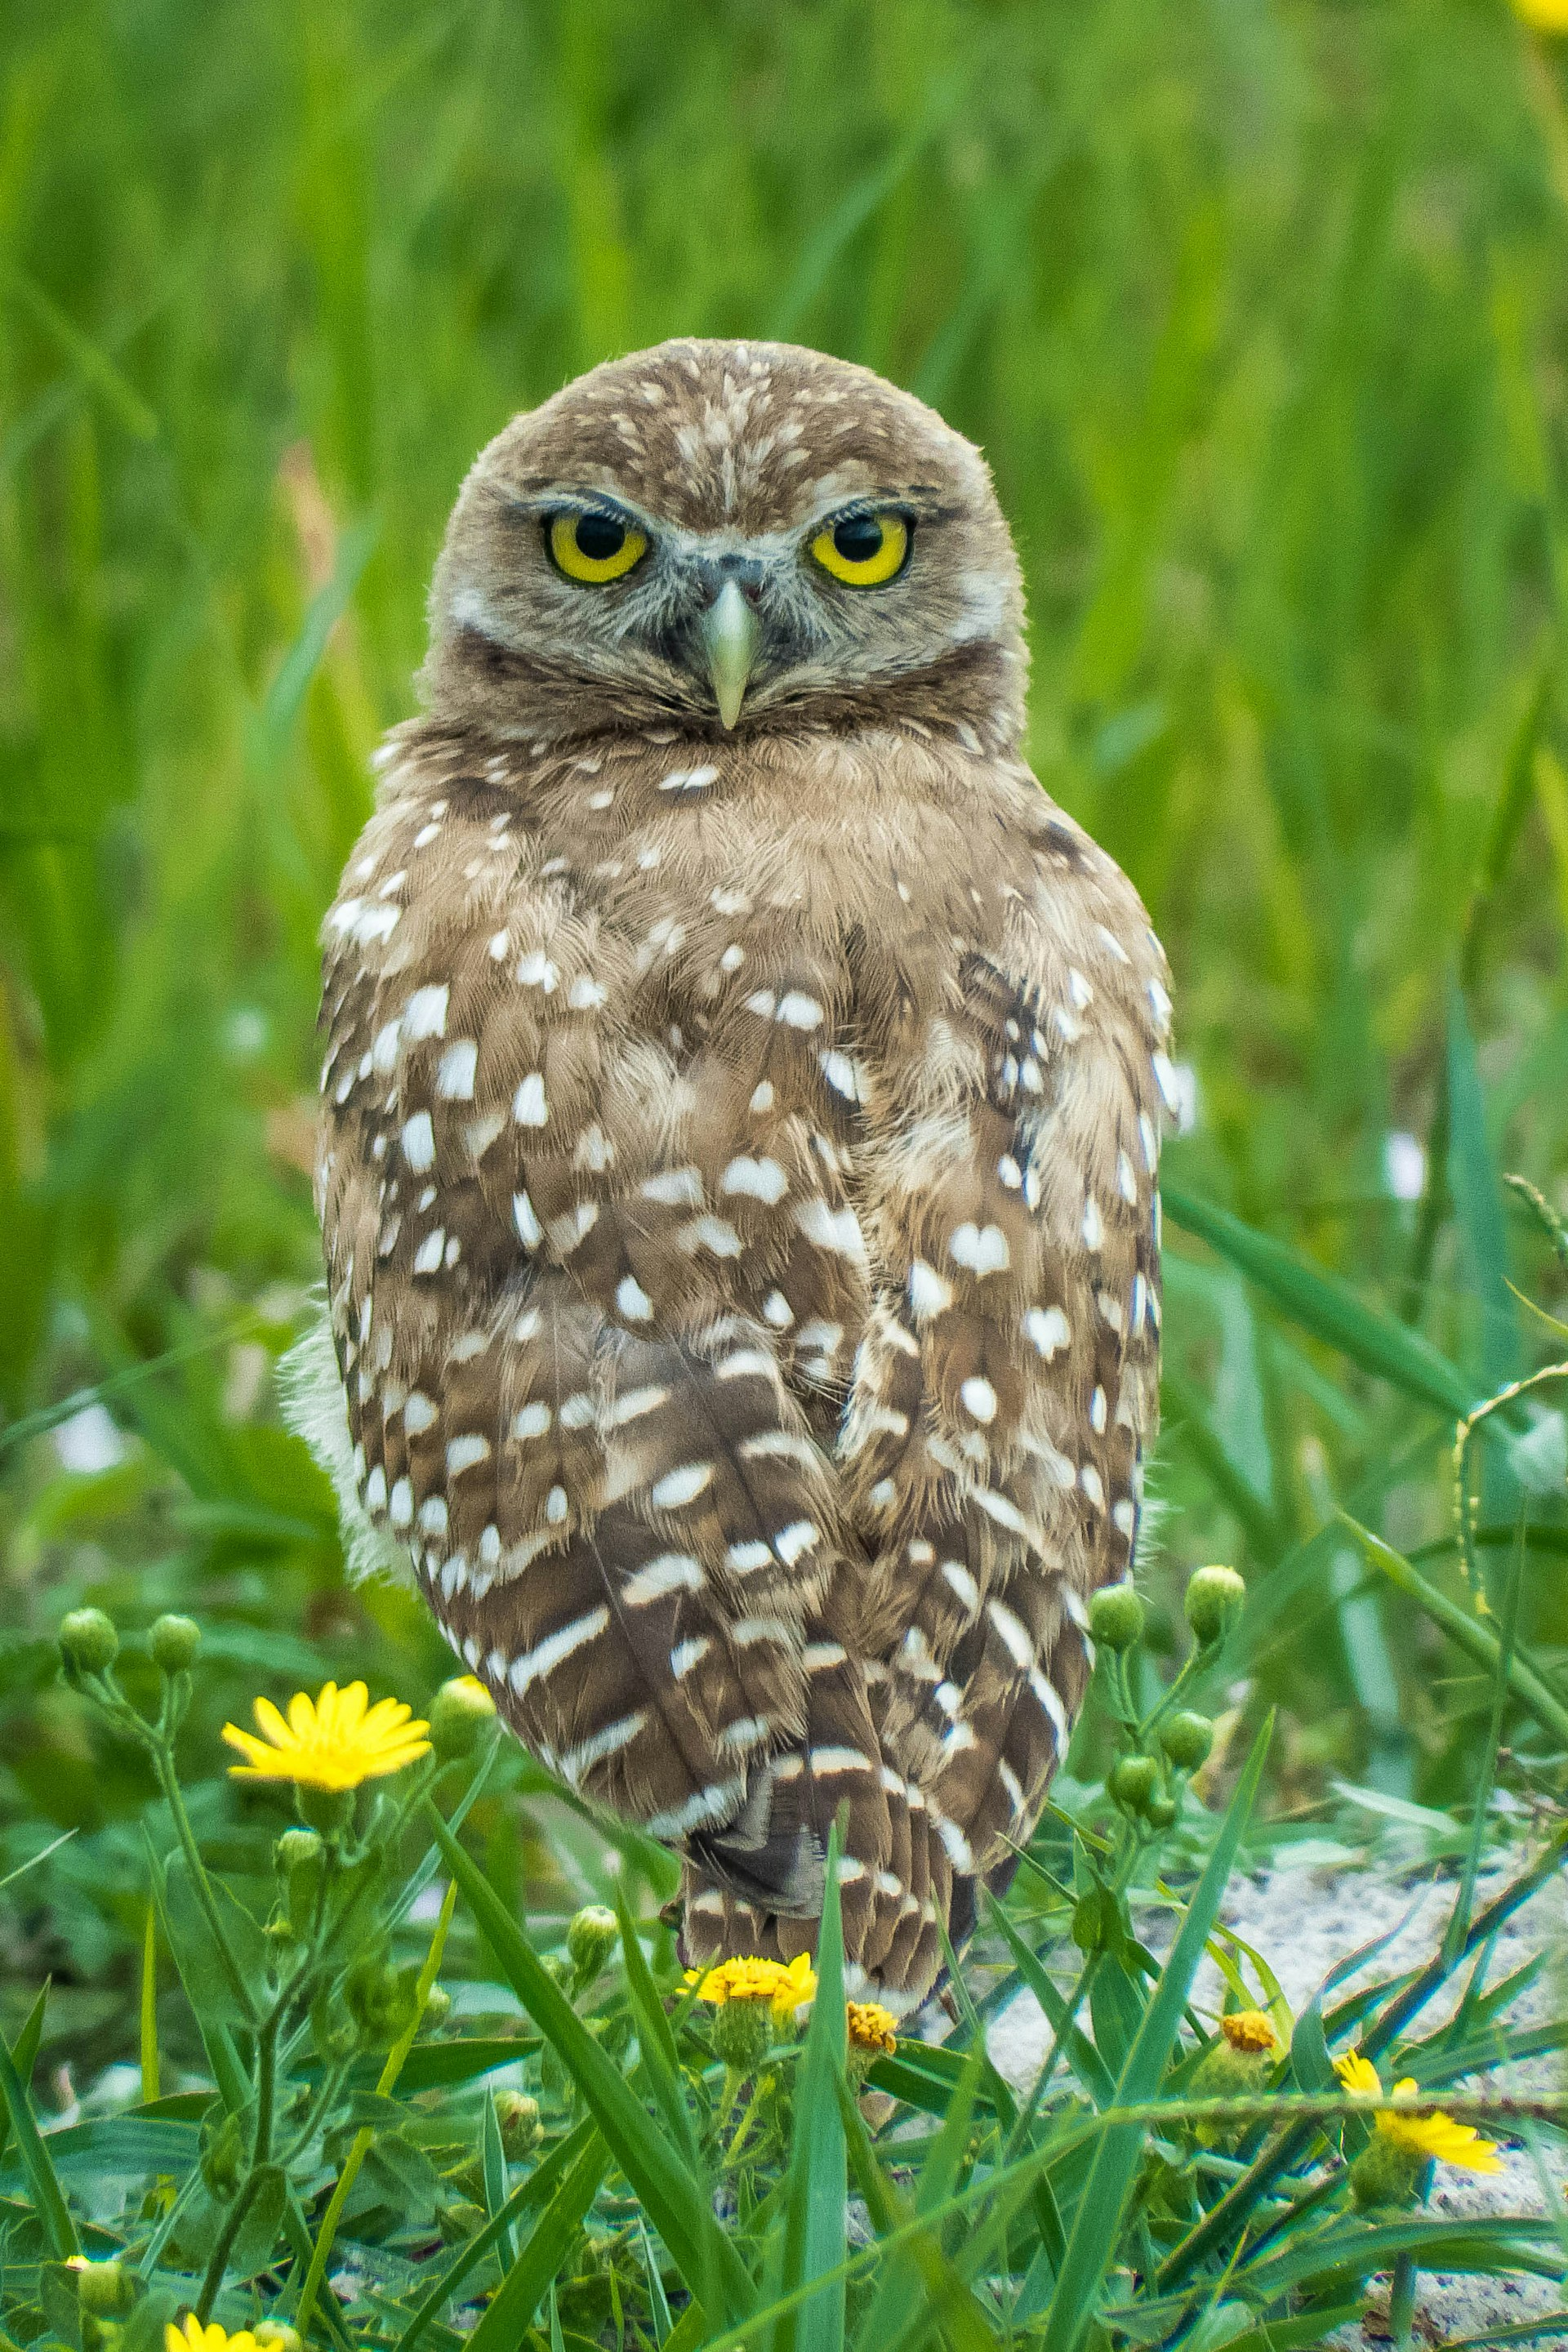owl: (275, 306, 1225, 2047)
